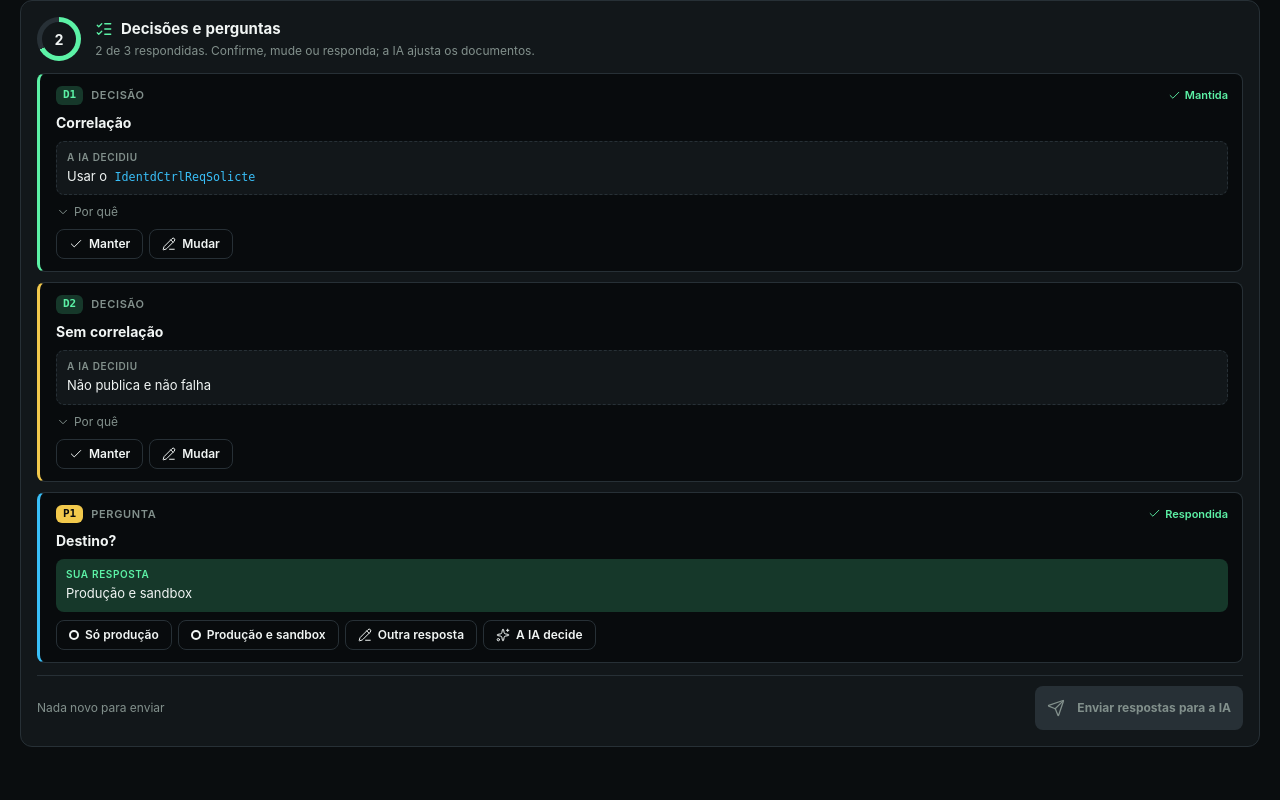
Test case: counts the answers already sent, shows them on their cards, and says they were sent while the AI works
Expected: the text "2 de 3 respondidas. Confirme, mude ou responda; a IA ajusta os documentos." is shown, [95,42,535,60]
Expected: the text "Produção e sandbox" is shown, [66,585,192,601]
What coordinates should you click on to do the following:
click the button "Só produção"
I would click on:
 (114, 635)
Its box is [56,620,172,650].
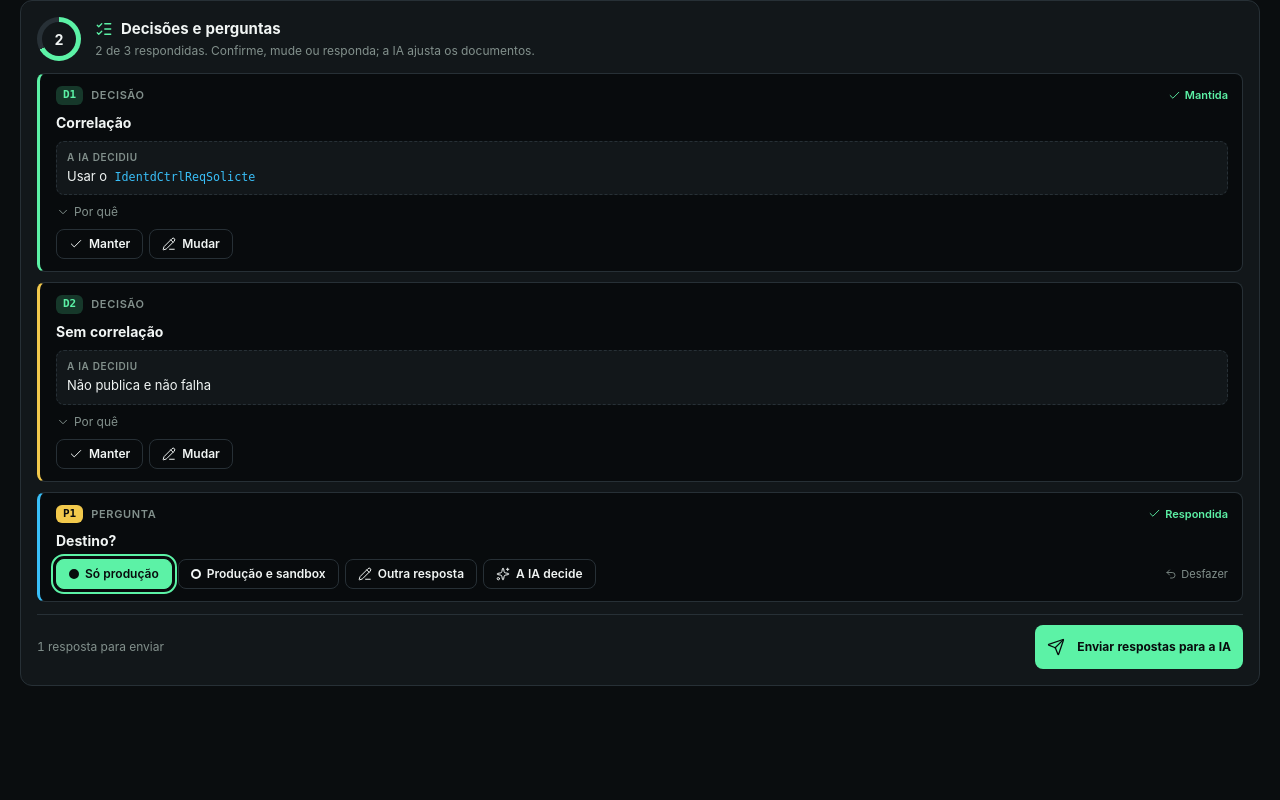
Expected: the text "1 resposta para enviar" is shown, [37,638,164,656]
